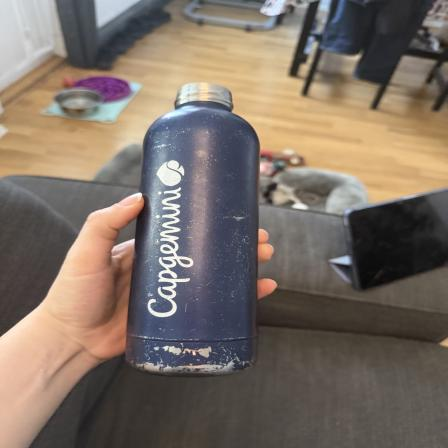blue_bottle: (131, 83, 260, 374)
